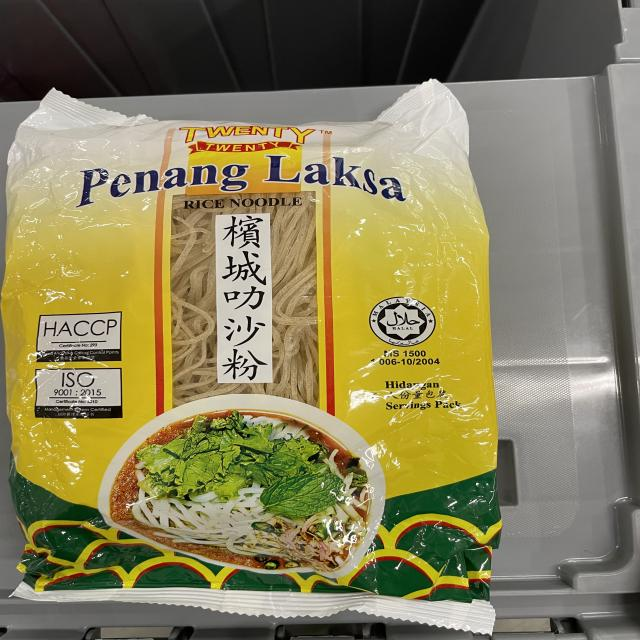object_name: (19, 108, 491, 624)
